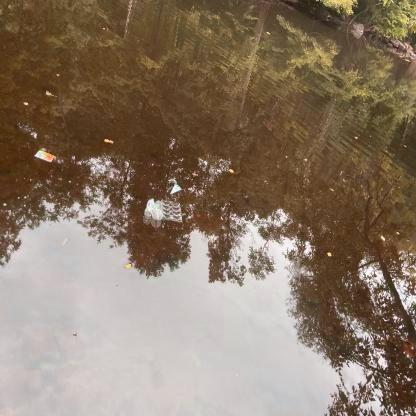Plastic: (158, 198, 186, 226), (143, 193, 156, 221), (150, 198, 164, 222), (168, 181, 184, 197)
